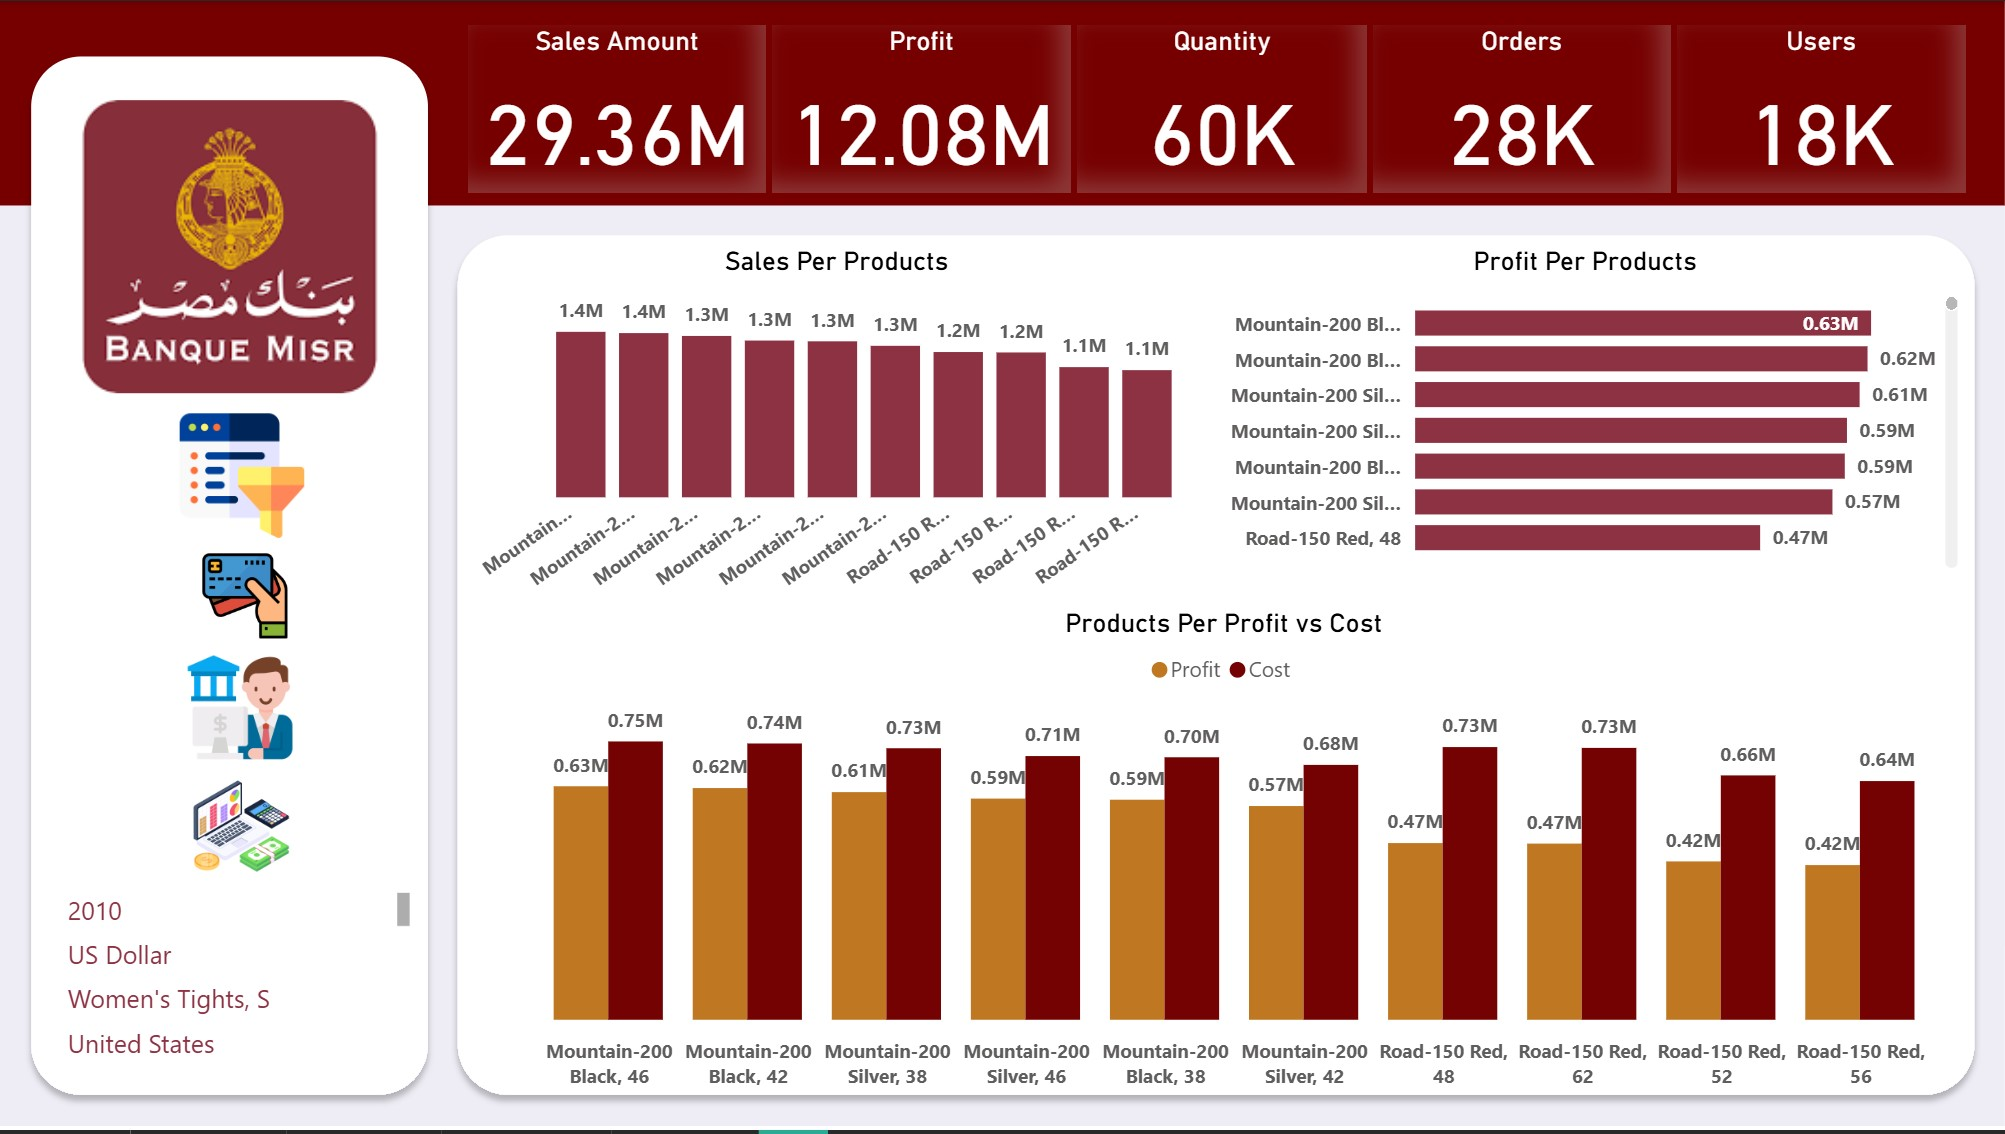

The dashboard page shown, as its layout file describes it:
{"tool":"powerbi","page":{"name":"Products","canvas":[1280,720],"ordinal":1},"visuals":[{"type":"image","box":[47.3,56,201.5,201.5],"z":0},{"type":"clusteredColumnChart","title":"Sales Per Products","fields":{"Category":["dim_Product.EnglishProductName"],"Y":["Sum(fact_InternetSales.SalesAmount)"]},"box":[298.5,156.7,470.1,230.1],"z":1000},{"type":"clusteredBarChart","title":"Profit Per Products","fields":{"Category":["dim_Product.EnglishProductName"],"Y":["fact_InternetSales.Profit"]},"box":[768.6,156.7,485.1,210.2],"z":2000},{"type":"clusteredColumnChart","title":"Products Per Profit vs Cost","fields":{"Category":["dim_Product.EnglishProductName"],"Y":["fact_InternetSales.Profit","fact_InternetSales.Cost"]},"box":[298.5,386.8,963.9,313.4],"z":12000},{"type":"card","title":"Sales Amount","fields":{"Values":["Sum(fact_InternetSales.SalesAmount)"]},"box":[298.8,16,190.1,107],"z":13000},{"type":"card","title":"Users","fields":{"Values":["dim_Customer.All users"]},"box":[1070.4,16,183.7,107],"z":14000},{"type":"card","title":"Orders","fields":{"Values":["fact_InternetSales.Orders"]},"box":[876.3,16,190.1,107],"z":15000},{"type":"card","title":"Quantity","fields":{"Values":["Sum(fact_InternetSales.OrderQuantity)"]},"box":[687,16,185.3,107],"z":16000},{"type":"card","title":"Profit","fields":{"Values":["fact_InternetSales.Profit"]},"box":[492.9,16,190.1,107],"z":17000},{"type":"image","box":[80.8,257.5,149.3,89.6],"z":18000},{"type":"image","box":[73.4,347,166.7,64.7],"z":19000},{"type":"image","box":[82.1,411.7,141.8,77.1],"z":20000},{"type":"image","box":[78.4,488.8,153,74.6],"z":21000},{"type":"multiRowCard","fields":{"Values":["fact_InternetSales.yearfilter","fact_InternetSales.currencynamefilter","fact_InternetSales.territorycountryfilter","fact_InternetSales.englishproductfilter"]},"box":[38.6,563.4,227.6,125.6],"z":22000}]}

Visuals, with their boxes in screenshot pixels (x1, y1, x2, y2), scaled from the page's 1280x720 canvas onto the 2005x1134 screenshot:
image: <bbox>74, 88, 390, 406</bbox>
"Sales Per Products" clusteredColumnChart: <bbox>468, 247, 1204, 609</bbox>
"Profit Per Products" clusteredBarChart: <bbox>1204, 247, 1964, 578</bbox>
"Products Per Profit vs Cost" clusteredColumnChart: <bbox>468, 609, 1977, 1103</bbox>
"Sales Amount" card: <bbox>468, 25, 766, 194</bbox>
"Users" card: <bbox>1677, 25, 1964, 194</bbox>
"Orders" card: <bbox>1373, 25, 1670, 194</bbox>
"Quantity" card: <bbox>1076, 25, 1366, 194</bbox>
"Profit" card: <bbox>772, 25, 1070, 194</bbox>
image: <bbox>127, 406, 360, 547</bbox>
image: <bbox>115, 547, 376, 648</bbox>
image: <bbox>129, 648, 351, 770</bbox>
image: <bbox>123, 770, 362, 887</bbox>
multiRowCard - fact_InternetSales.yearfilter x fact_InternetSales.currencynamefilter: <bbox>60, 887, 417, 1085</bbox>
